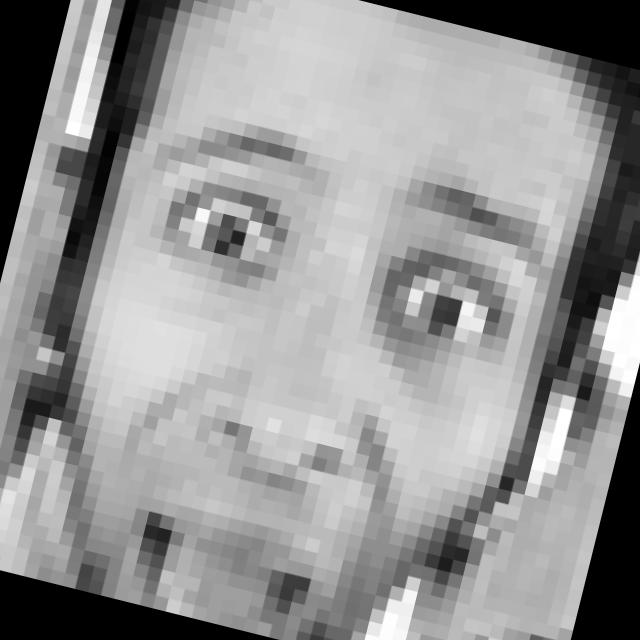fear: (46, 105, 567, 640)
